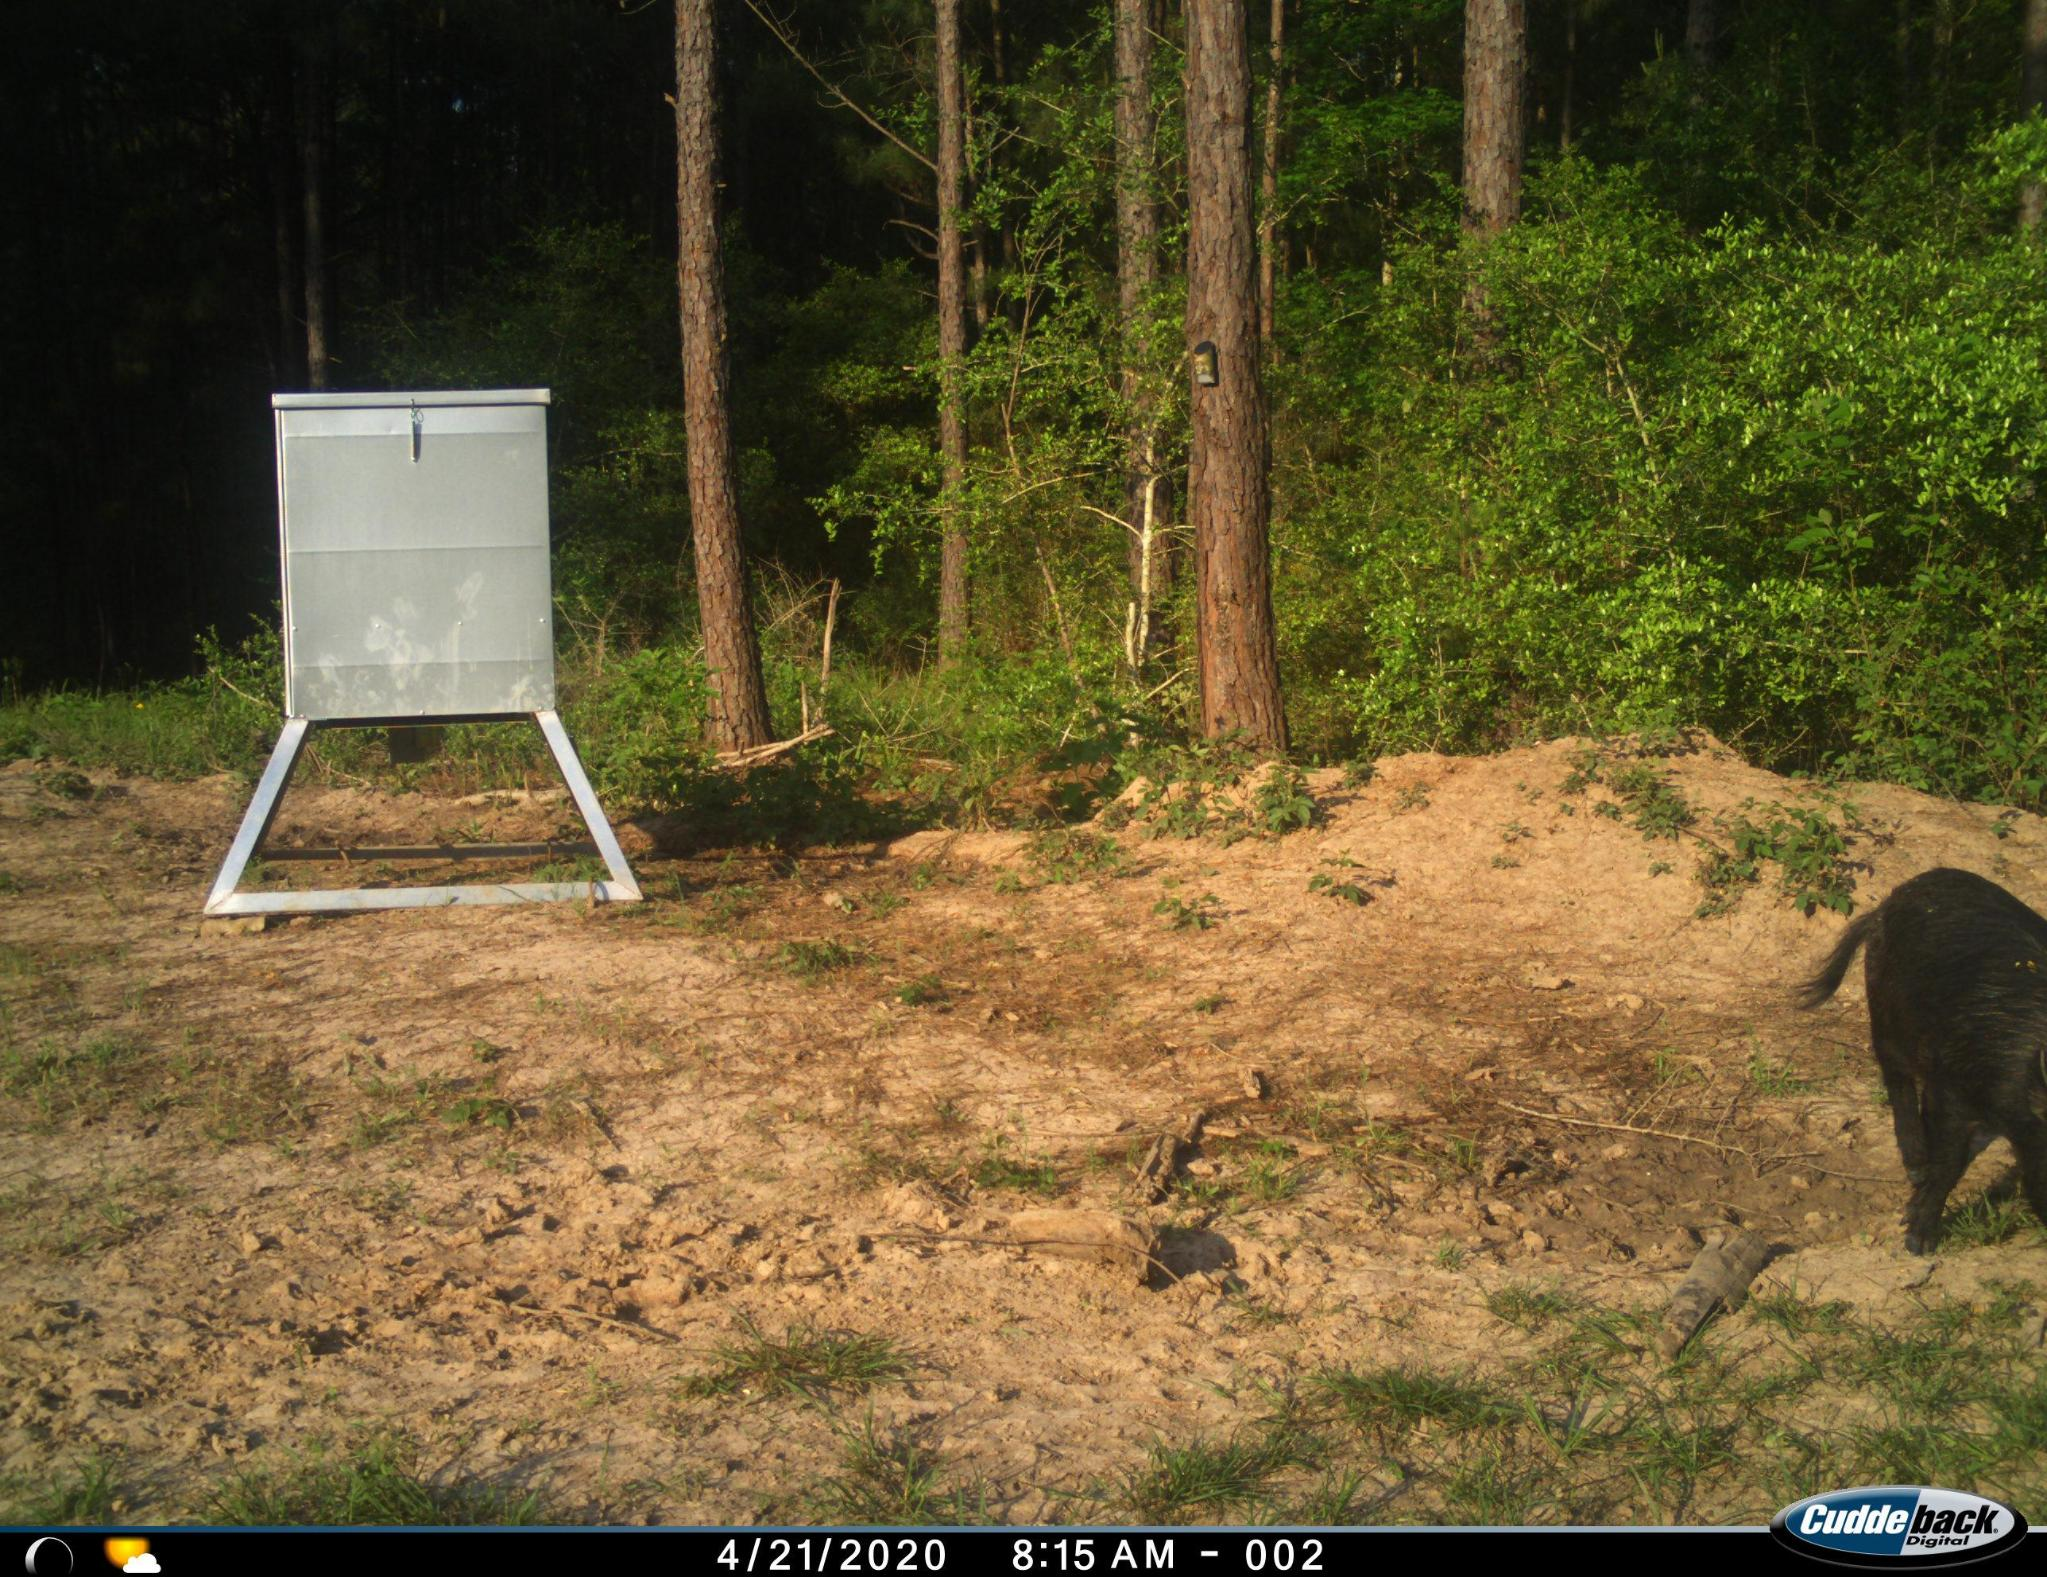Hog: (1790, 855, 2047, 1271)
